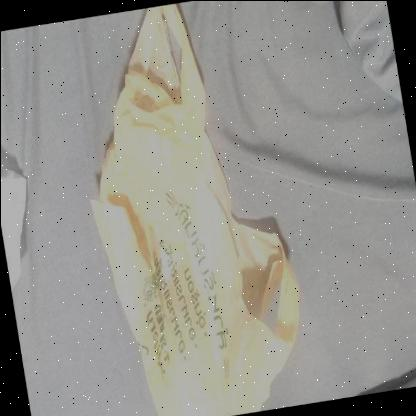Others: (89, 4, 302, 416)
